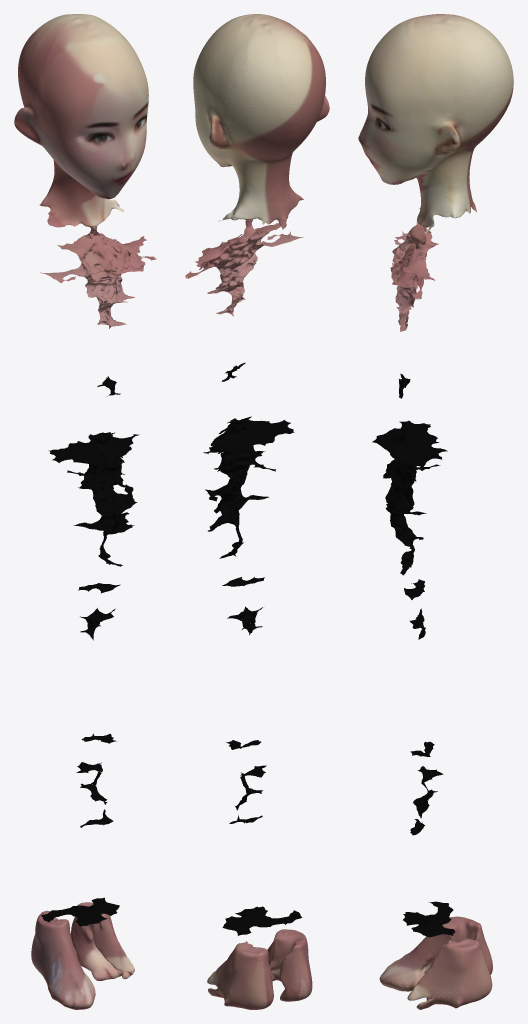
3 views of the same model, side by side, from view 1: azimuth 30°, elevation 25°; view 2: azimuth 210°, elevation 25°; view 3: azimuth 270°, elevation 25° (orthographic).
Visible parts, largest first — view 1: world; view 2: world; view 3: world.
Boxes of the visible parts, bbox=[...] form: world: bbox=[14, 14, 156, 1009]; world: bbox=[185, 14, 329, 1009]; world: bbox=[358, 14, 513, 1009].
Bounding box in the file's own units: 0.2897 × 2.15 × 0.3107.
